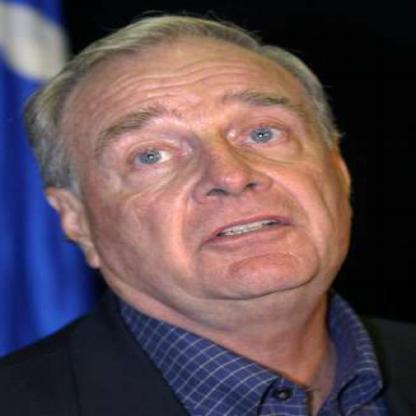face: (72, 22, 352, 314)
